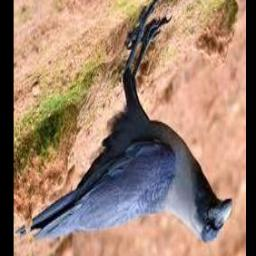Crow: (15, 0, 231, 245)
